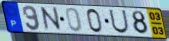0: (65, 7, 84, 33), (86, 8, 104, 34)
8: (131, 10, 150, 36)
9: (22, 4, 42, 32)
N: (39, 6, 64, 32)
U: (108, 8, 130, 34)
